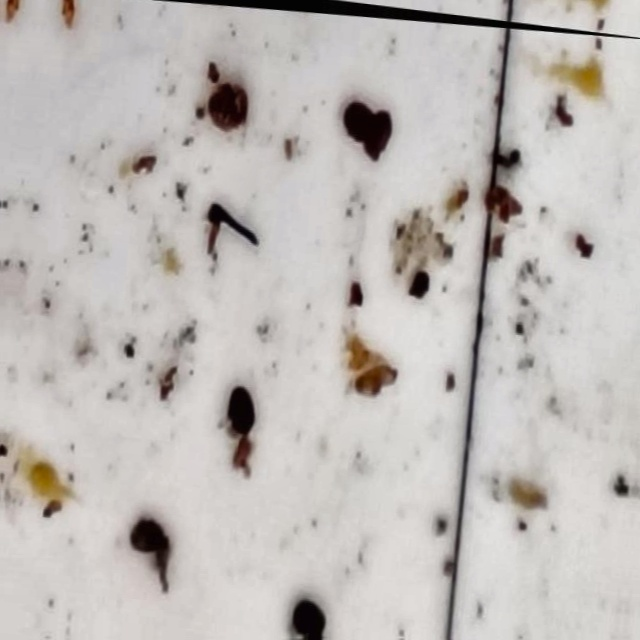varroa: (221, 381, 257, 438), (124, 512, 168, 557), (337, 100, 376, 145), (364, 109, 394, 161), (287, 600, 325, 636)
